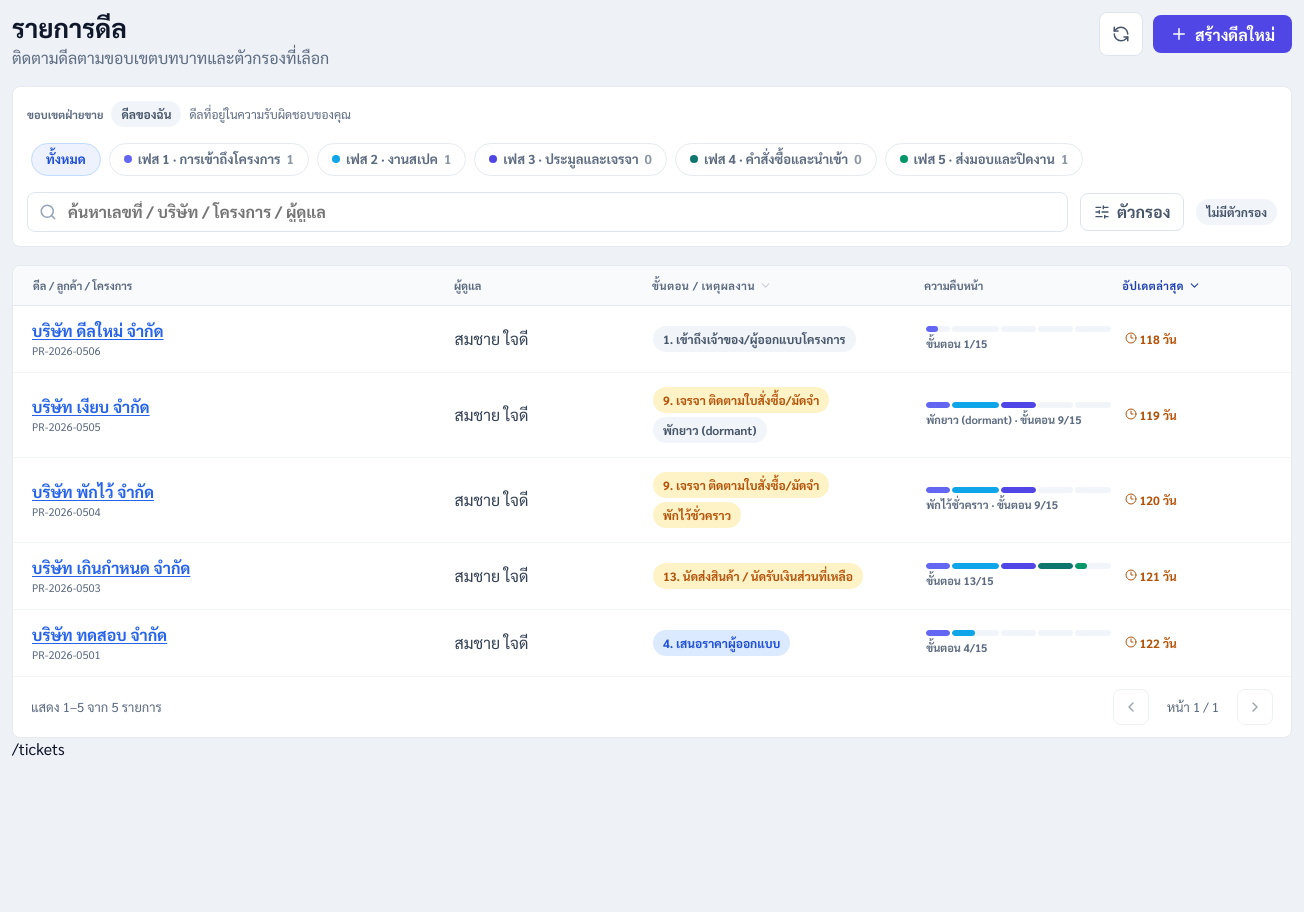
Test: TicketListPage › opens a deal by clicking the row itself, with no repeated เปิด button
Expected: the link "บริษัท ทดสอบ จำกัด" is shown, [32, 624, 167, 645]
Click the text "บริษัท ทดสอบ จำกัด".
click(652, 643)  # box [13, 610, 1291, 677]
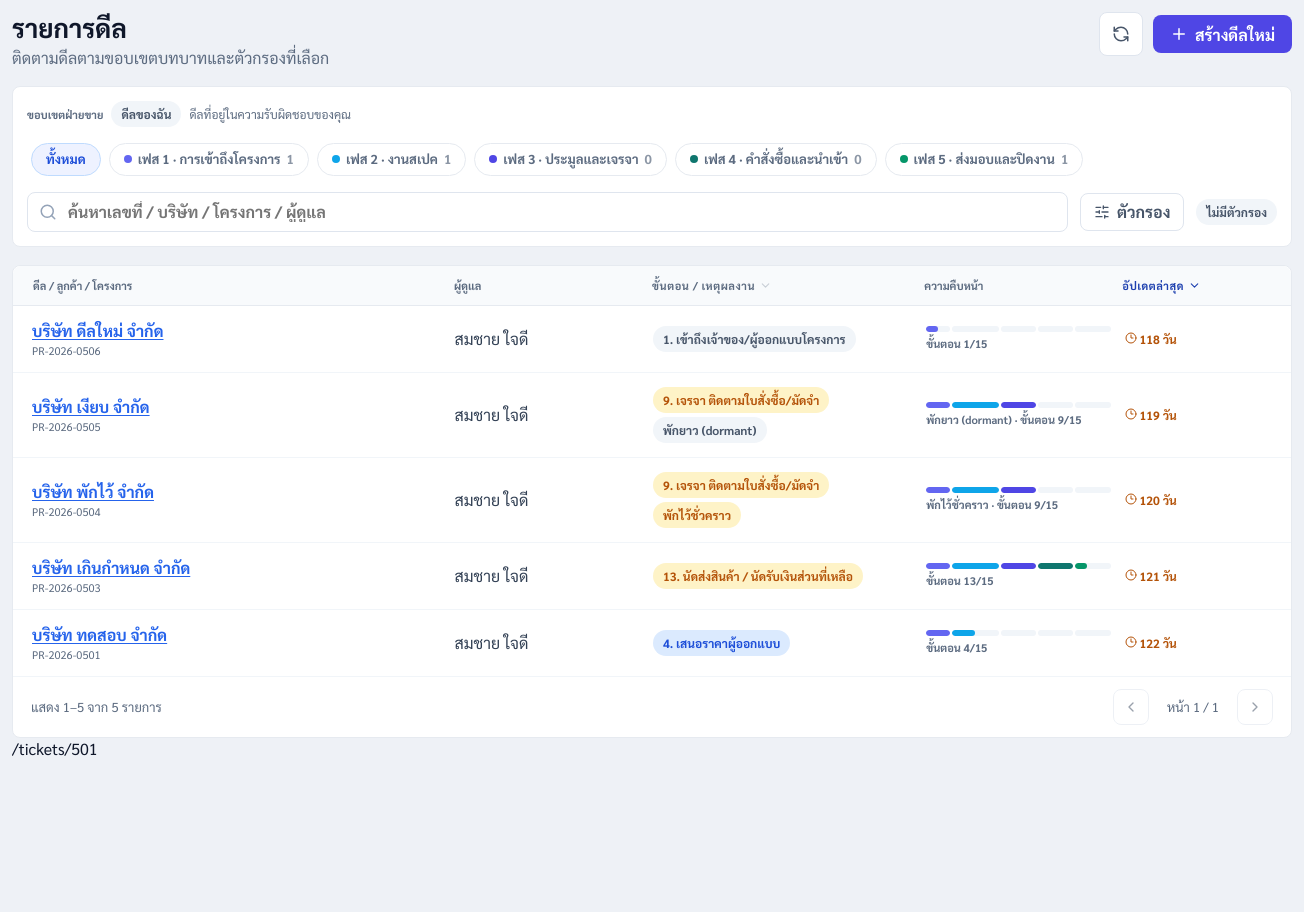
Now the text with test id "location-display" reads "/tickets/501", box [12, 738, 98, 759]
